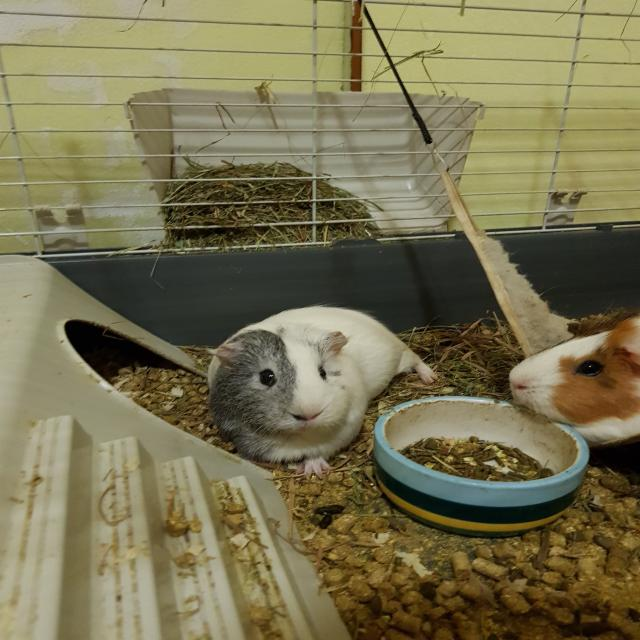guinea pig: (200, 304, 439, 478), (506, 308, 640, 449)
